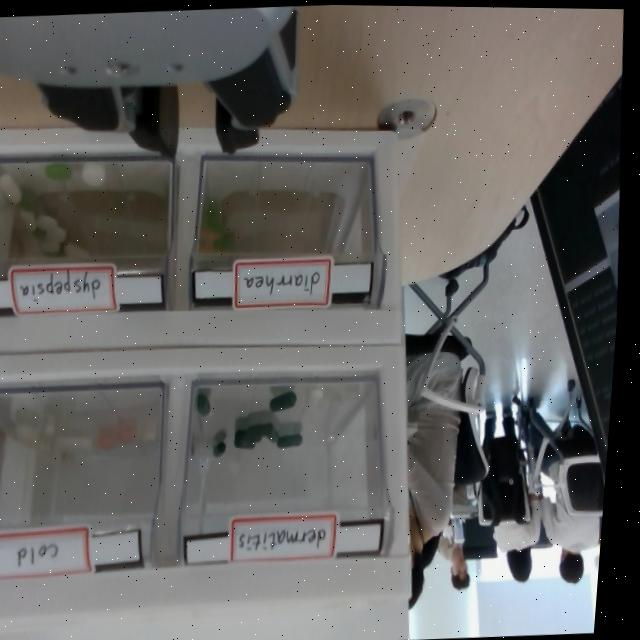text: (14, 265, 109, 305), (232, 521, 329, 559), (242, 269, 322, 301), (9, 538, 62, 570)
